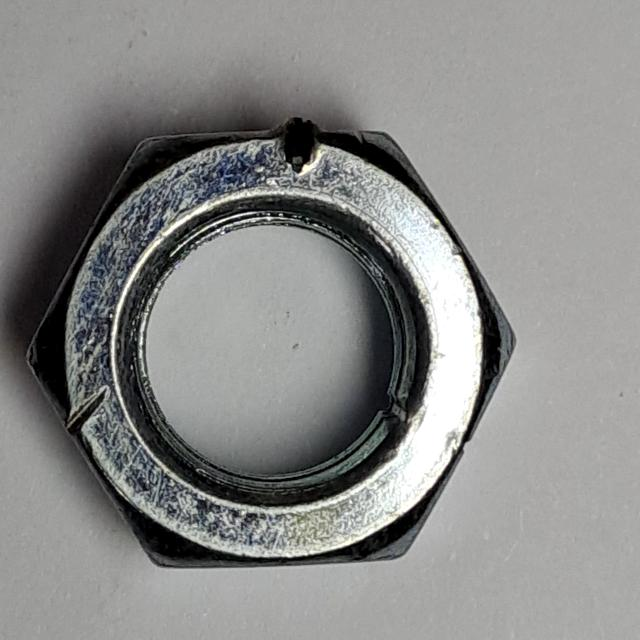Scratches: (14, 100, 530, 593)
